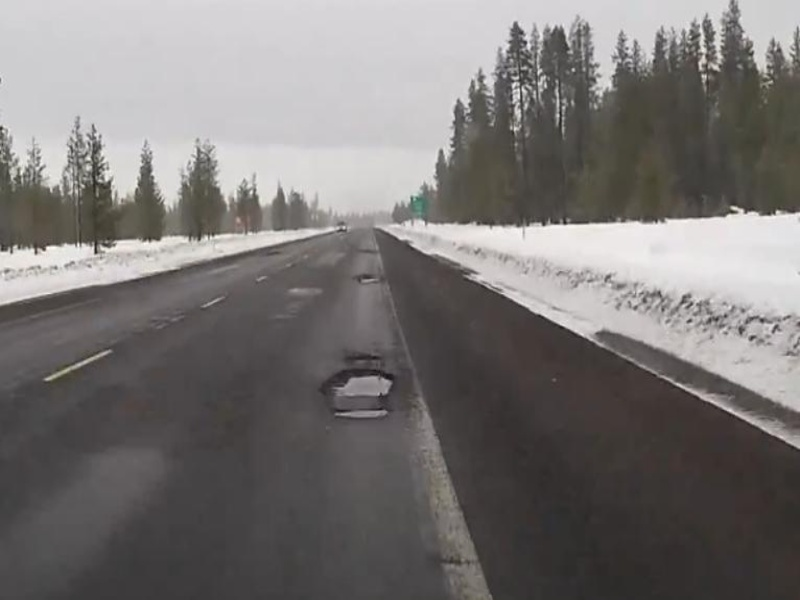pothole: (319, 367, 403, 400), (327, 401, 398, 420)
